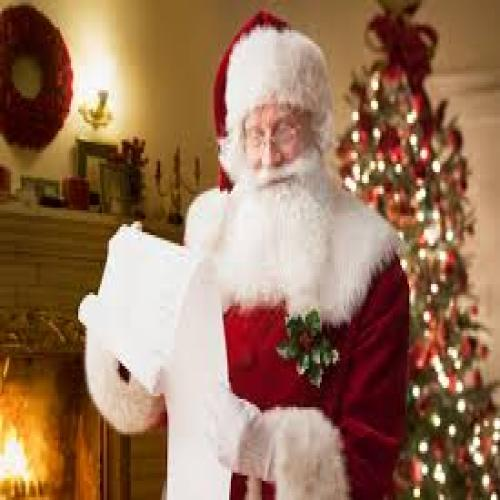Santa: (79, 10, 410, 500)
